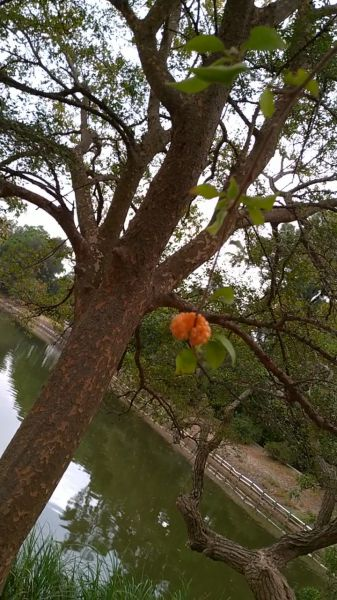eggs: (168, 308, 214, 352)
